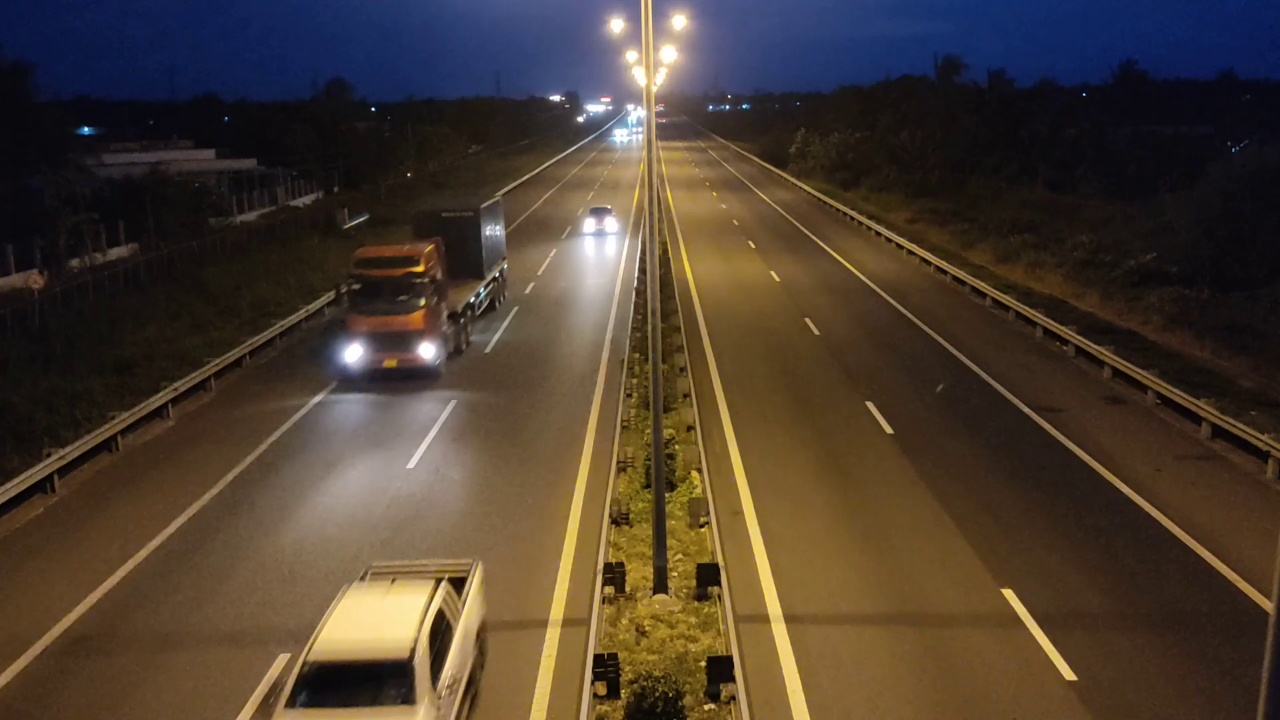car: (264, 541, 491, 714)
truck: (325, 196, 510, 381)
